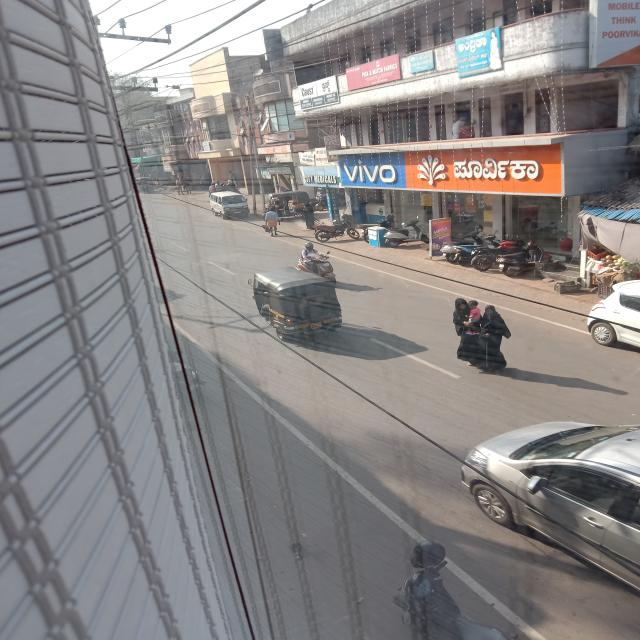Autorickshaw: (240, 264, 350, 339), (263, 190, 313, 222), (135, 175, 158, 194), (191, 172, 212, 189)
Bike: (356, 534, 514, 640), (470, 236, 527, 274), (290, 242, 341, 284), (499, 241, 554, 277), (437, 226, 486, 265), (450, 232, 504, 267), (310, 216, 360, 243), (386, 221, 430, 248), (359, 216, 396, 244), (208, 184, 243, 198)
Car: (446, 405, 640, 594), (583, 270, 640, 352), (208, 191, 252, 220)
tempo: (315, 186, 357, 211)
